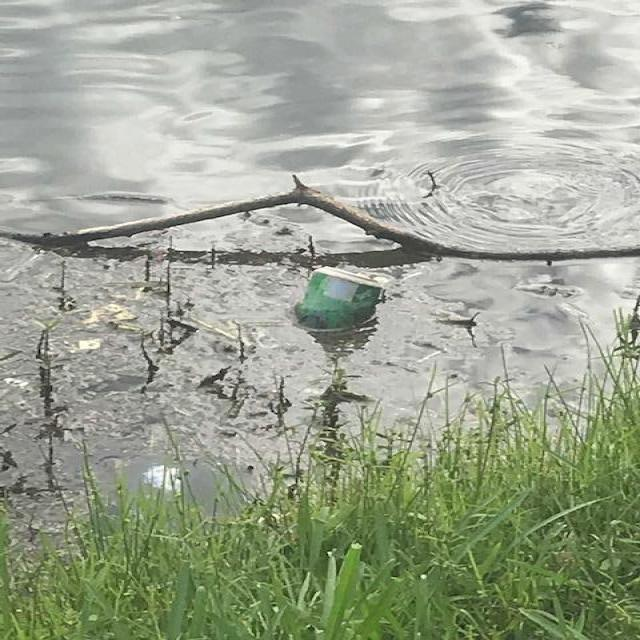litter: (288, 252, 417, 344)
